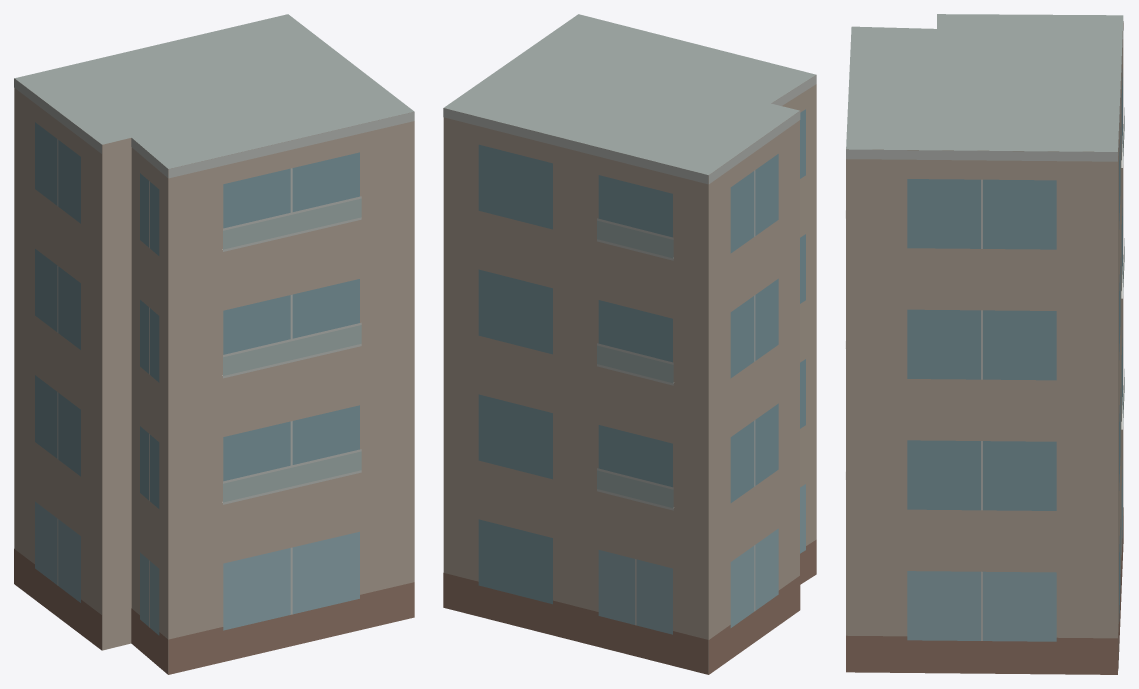
The model's file is survey-upis-33007293.glb.
The picture shows the model from 3 angles, left to right: view 1: azimuth 30°, elevation 25°; view 2: azimuth 150°, elevation 25°; view 3: azimuth 270°, elevation 25°; orthographic projection. The views are drawn at different scales.
Visible parts, largest first — view 1: survey-upis-33007293.tmp; view 2: survey-upis-33007293.tmp; view 3: survey-upis-33007293.tmp.
Boxes of the visible parts, left/top/right/bottom form: survey-upis-33007293.tmp: left=14, top=14, right=414, bottom=674; survey-upis-33007293.tmp: left=443, top=14, right=816, bottom=674; survey-upis-33007293.tmp: left=845, top=14, right=1124, bottom=674.
Size of the model in its own units: 7.42 by 13.1 by 6.34.
